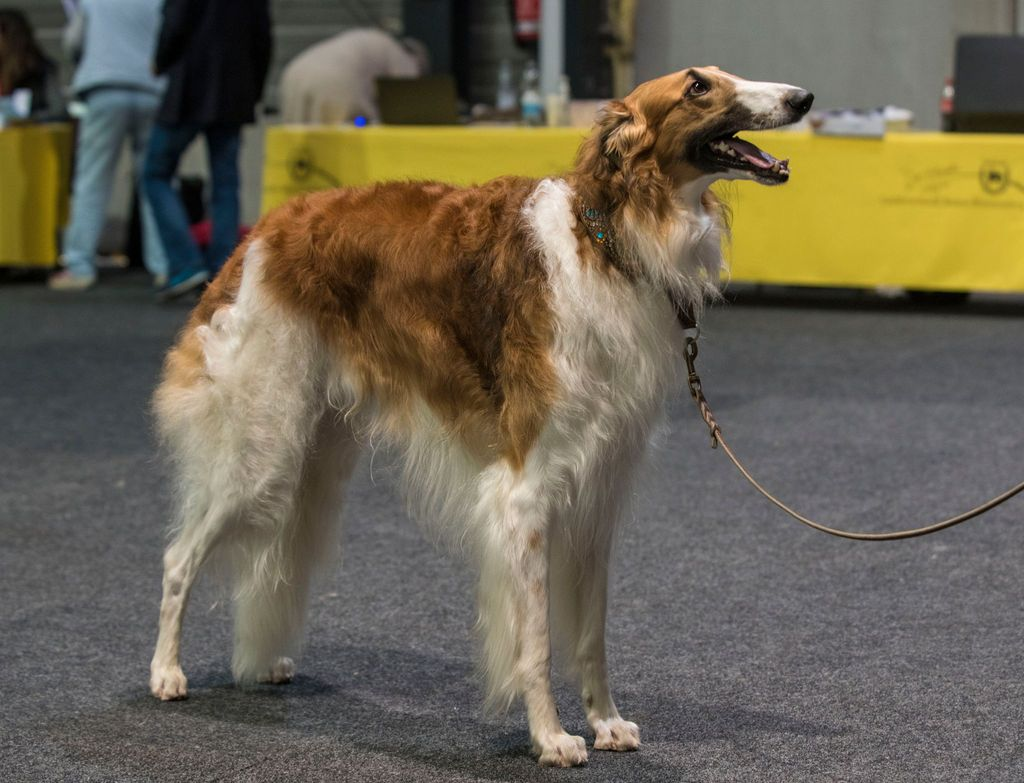borzoi: (119, 62, 841, 769)
